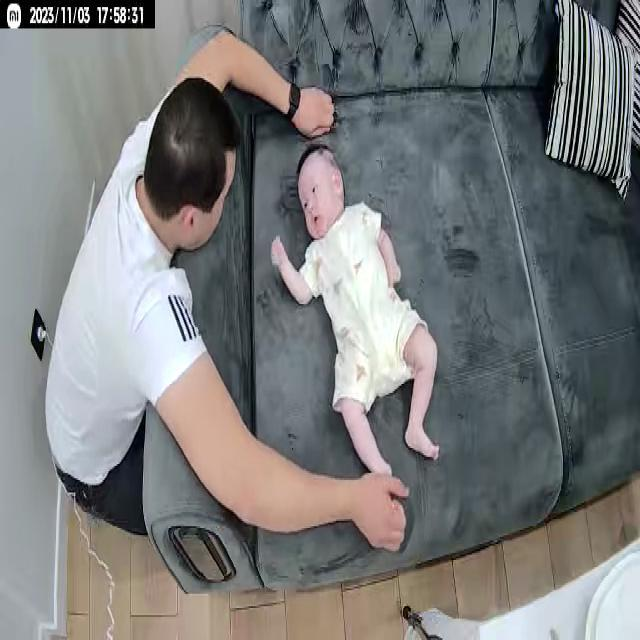baby: (267, 141, 445, 487)
